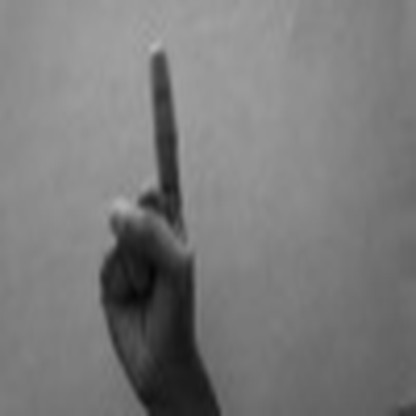d: (82, 40, 205, 367)
